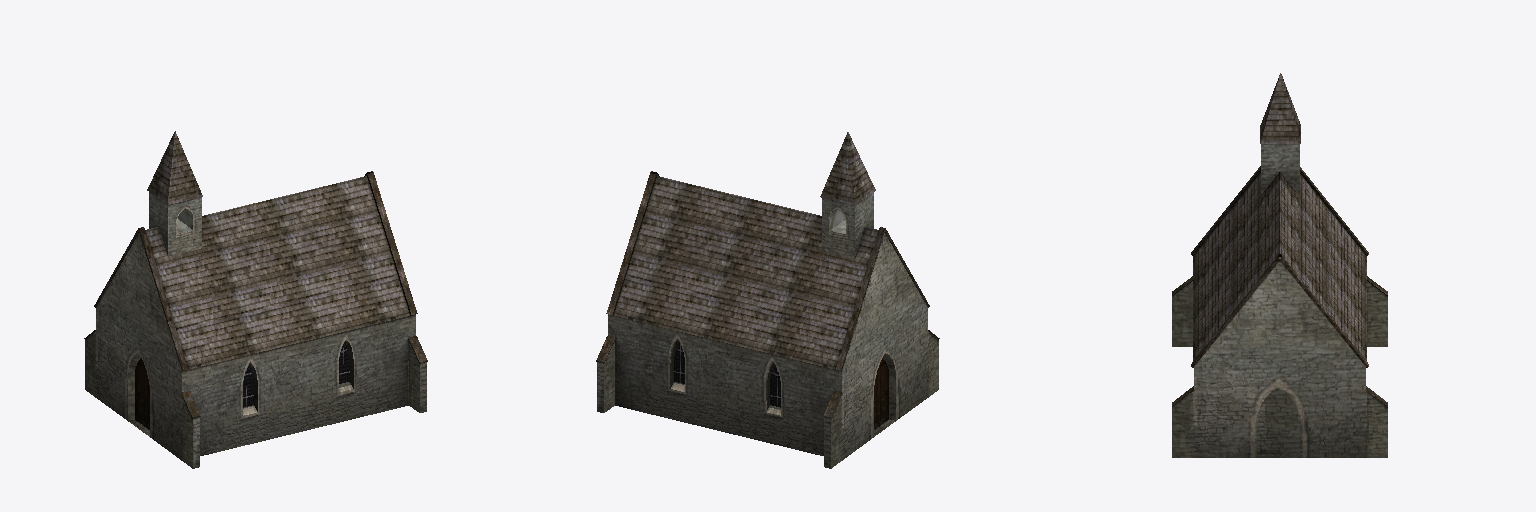
3 renders of one model, left to right at view 1: azimuth 30°, elevation 25°; view 2: azimuth 150°, elevation 25°; view 3: azimuth 270°, elevation 25°, orthographic.
Parts seen in each view (by area): view 1: Mesh_Mesh_chapel; view 2: Mesh_Mesh_chapel; view 3: Mesh_Mesh_chapel.
Part boxes in pixels (bbox=[...]): Mesh_Mesh_chapel: bbox=[84, 131, 427, 468]; Mesh_Mesh_chapel: bbox=[596, 132, 939, 468]; Mesh_Mesh_chapel: bbox=[1172, 73, 1387, 457].
Size of the model in its own units: 0.3282 by 0.3861 by 0.2619.
Materials: 1 (1 with a texture image).